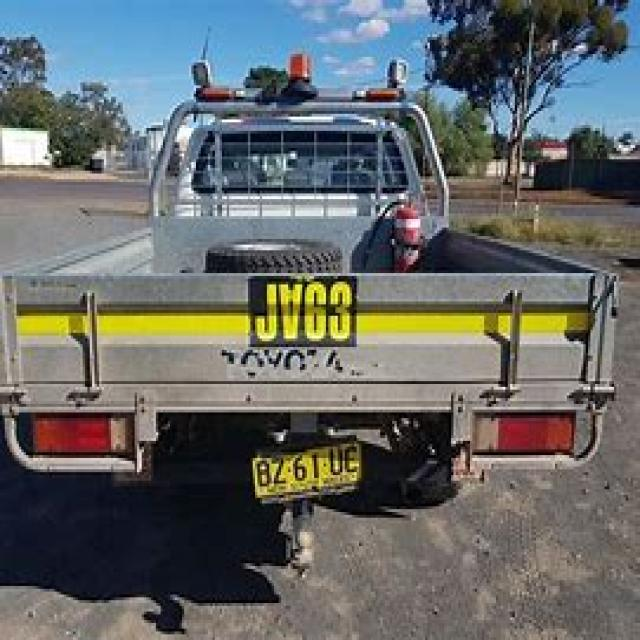light_vehicle: (9, 60, 614, 532)
